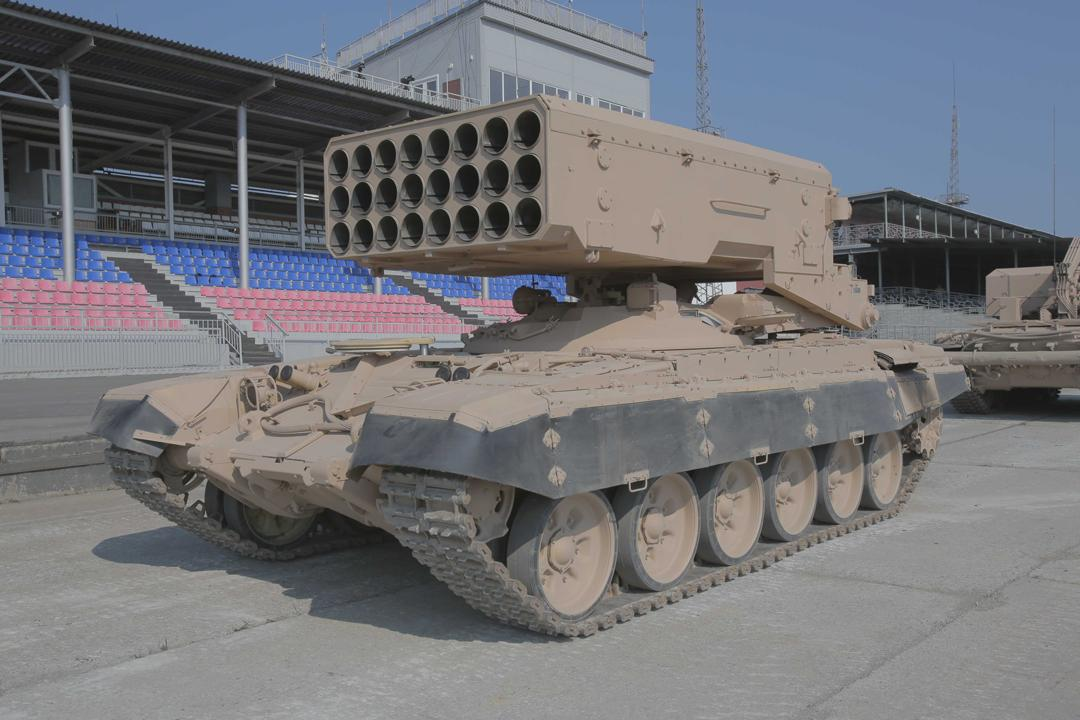MIL_SAM_TEL: (91, 87, 970, 647)
